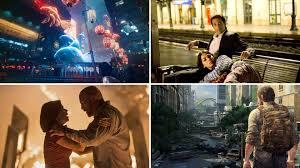Persons: (194, 47, 219, 73), (212, 14, 229, 36)
